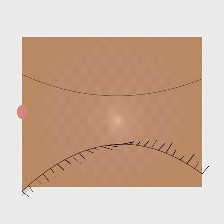pinguecula_lesion: (141, 97, 175, 125)
